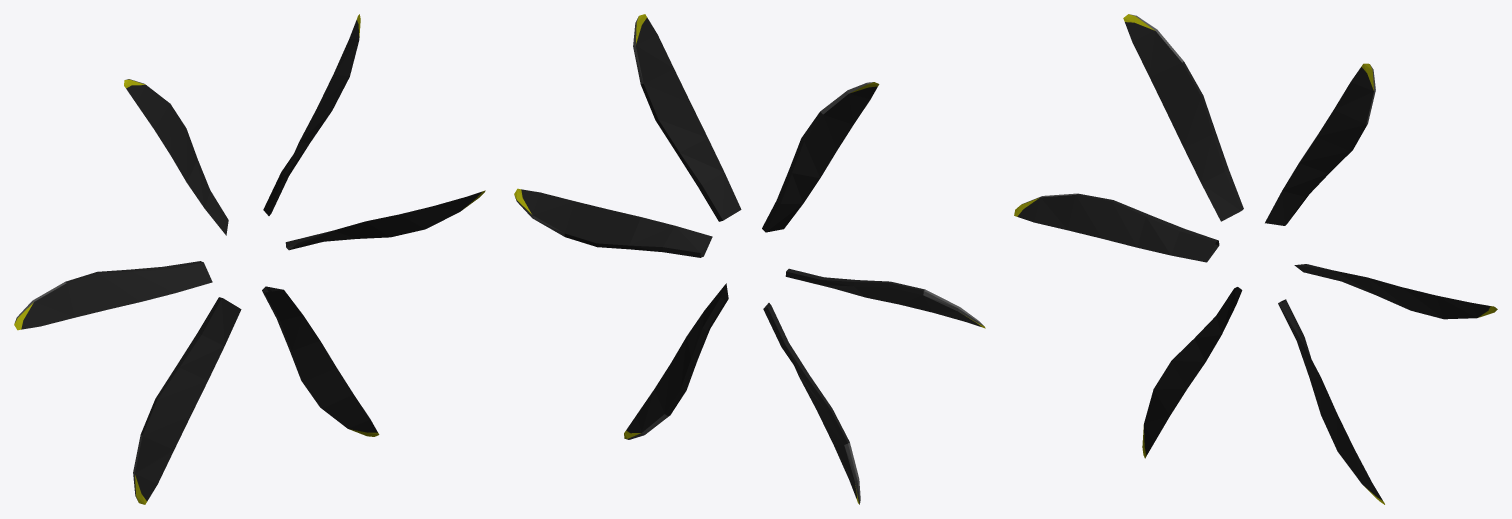
The model's file is Prop_Q400NP.obj.
3 views of the same model, side by side, from view 1: azimuth 30°, elevation 25°; view 2: azimuth 150°, elevation 25°; view 3: azimuth 330°, elevation 25° (orthographic). The views are drawn at different scales.
Parts seen in each view (by area): view 1: ShapeIndexedFaceSet.134_ShapeIndexedFaceSet.135, ShapeIndexedFaceSet.119_ShapeIndexedFaceSet.120, ShapeIndexedFaceSet.131_ShapeIndexedFaceSet.132, ShapeIndexedFaceSet.122_ShapeIndexedFaceSet.123, ShapeIndexedFaceSet.128_ShapeIndexedFaceSet.129, ShapeIndexedFaceSet.125_ShapeIndexedFaceSet.126; view 2: ShapeIndexedFaceSet.125_ShapeIndexedFaceSet.126, ShapeIndexedFaceSet.128_ShapeIndexedFaceSet.129, ShapeIndexedFaceSet.122_ShapeIndexedFaceSet.123, ShapeIndexedFaceSet.131_ShapeIndexedFaceSet.132, ShapeIndexedFaceSet.119_ShapeIndexedFaceSet.120, ShapeIndexedFaceSet.134_ShapeIndexedFaceSet.135; view 3: ShapeIndexedFaceSet.122_ShapeIndexedFaceSet.123, ShapeIndexedFaceSet.119_ShapeIndexedFaceSet.120, ShapeIndexedFaceSet.125_ShapeIndexedFaceSet.126, ShapeIndexedFaceSet.134_ShapeIndexedFaceSet.135, ShapeIndexedFaceSet.128_ShapeIndexedFaceSet.129, ShapeIndexedFaceSet.131_ShapeIndexedFaceSet.132.
Boxes of the visible parts, left/top/right/bottom form: ShapeIndexedFaceSet.134_ShapeIndexedFaceSet.135: left=135, top=297, right=241, bottom=501; ShapeIndexedFaceSet.119_ShapeIndexedFaceSet.120: left=21, top=261, right=212, bottom=329; ShapeIndexedFaceSet.131_ShapeIndexedFaceSet.132: left=262, top=286, right=377, bottom=432; ShapeIndexedFaceSet.122_ShapeIndexedFaceSet.123: left=126, top=85, right=228, bottom=235; ShapeIndexedFaceSet.128_ShapeIndexedFaceSet.129: left=285, top=191, right=482, bottom=250; ShapeIndexedFaceSet.125_ShapeIndexedFaceSet.126: left=263, top=20, right=359, bottom=215; ShapeIndexedFaceSet.125_ShapeIndexedFaceSet.126: left=636, top=17, right=741, bottom=221; ShapeIndexedFaceSet.128_ShapeIndexedFaceSet.129: left=521, top=189, right=712, bottom=257; ShapeIndexedFaceSet.122_ShapeIndexedFaceSet.123: left=762, top=86, right=877, bottom=232; ShapeIndexedFaceSet.131_ShapeIndexedFaceSet.132: left=626, top=283, right=728, bottom=433; ShapeIndexedFaceSet.119_ShapeIndexedFaceSet.120: left=785, top=268, right=981, bottom=326; ShapeIndexedFaceSet.134_ShapeIndexedFaceSet.135: left=763, top=303, right=856, bottom=498; ShapeIndexedFaceSet.122_ShapeIndexedFaceSet.123: left=1125, top=22, right=1243, bottom=221; ShapeIndexedFaceSet.119_ShapeIndexedFaceSet.120: left=1017, top=193, right=1219, bottom=262; ShapeIndexedFaceSet.125_ShapeIndexedFaceSet.126: left=1265, top=67, right=1373, bottom=225; ShapeIndexedFaceSet.134_ShapeIndexedFaceSet.135: left=1144, top=287, right=1242, bottom=455; ShapeIndexedFaceSet.128_ShapeIndexedFaceSet.129: left=1294, top=264, right=1490, bottom=319; ShapeIndexedFaceSet.131_ShapeIndexedFaceSet.132: left=1278, top=299, right=1382, bottom=500.
Bounding box in the file's own units: 42.08 × 37.37 × 2.11.
